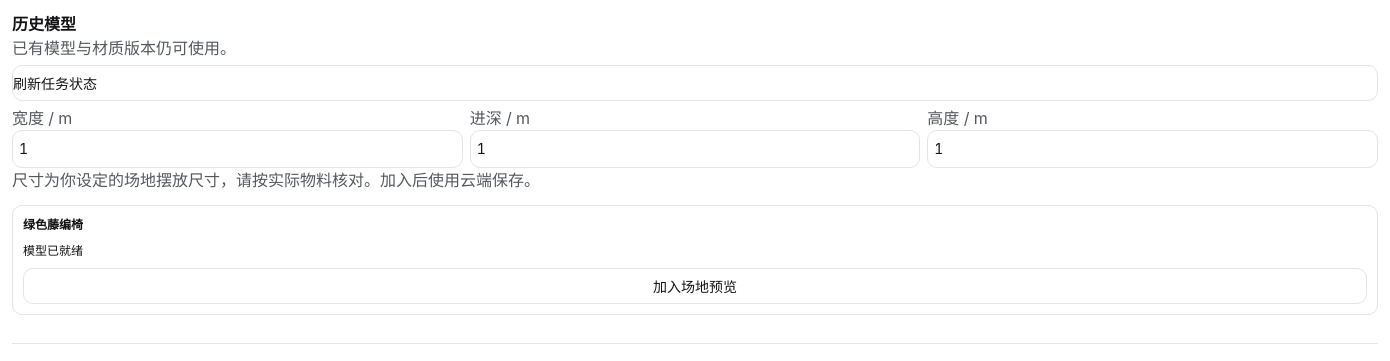
it: single object generation UI › keeps historical models usable and cleared dimensions empty until corrected
The image size is (1390, 361).
Expected: the heading "历史模型" is shown, [12,14,76,34]
Step 1. Clear the number field named "生成模型宽度" → (237, 149), box [12,130,463,168]
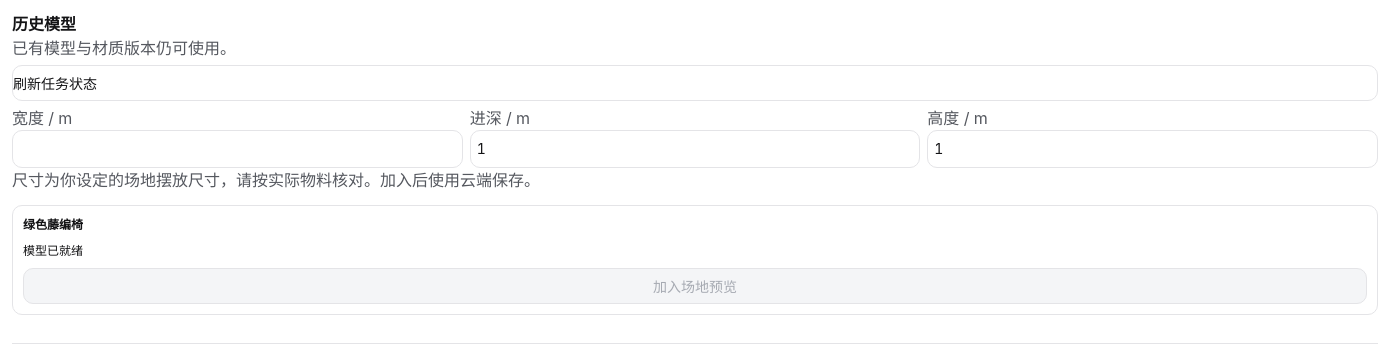
Expected: the button "加入场地预览" is disabled, [23,268,1367,304]
Step 2. Type "0.6" into the number field named "生成模型宽度" → (237, 149), box [12,130,463,168]
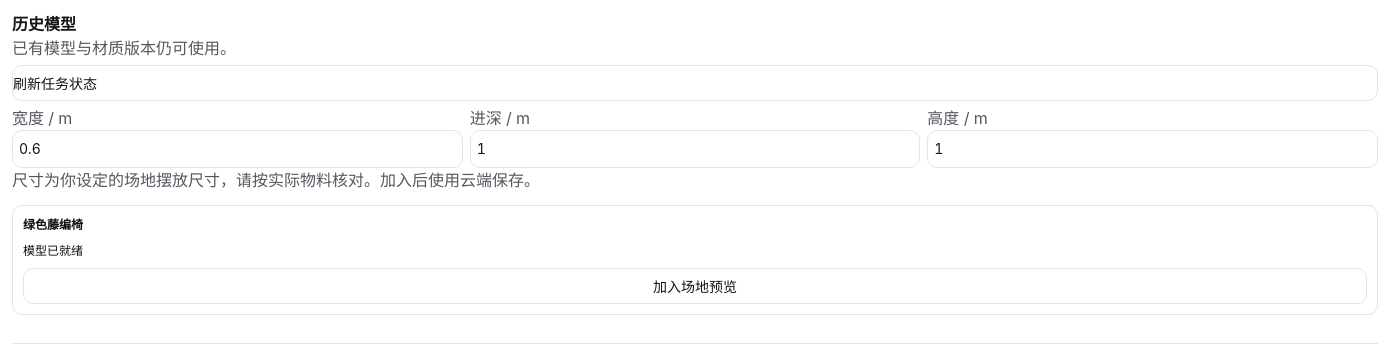
Expected: the button "加入场地预览" is enabled, [23,268,1367,304]
